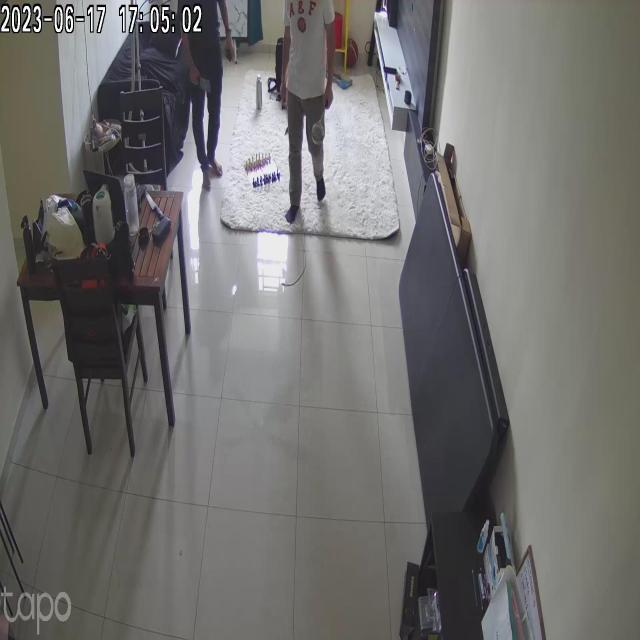Knife: (194, 67, 216, 101)
